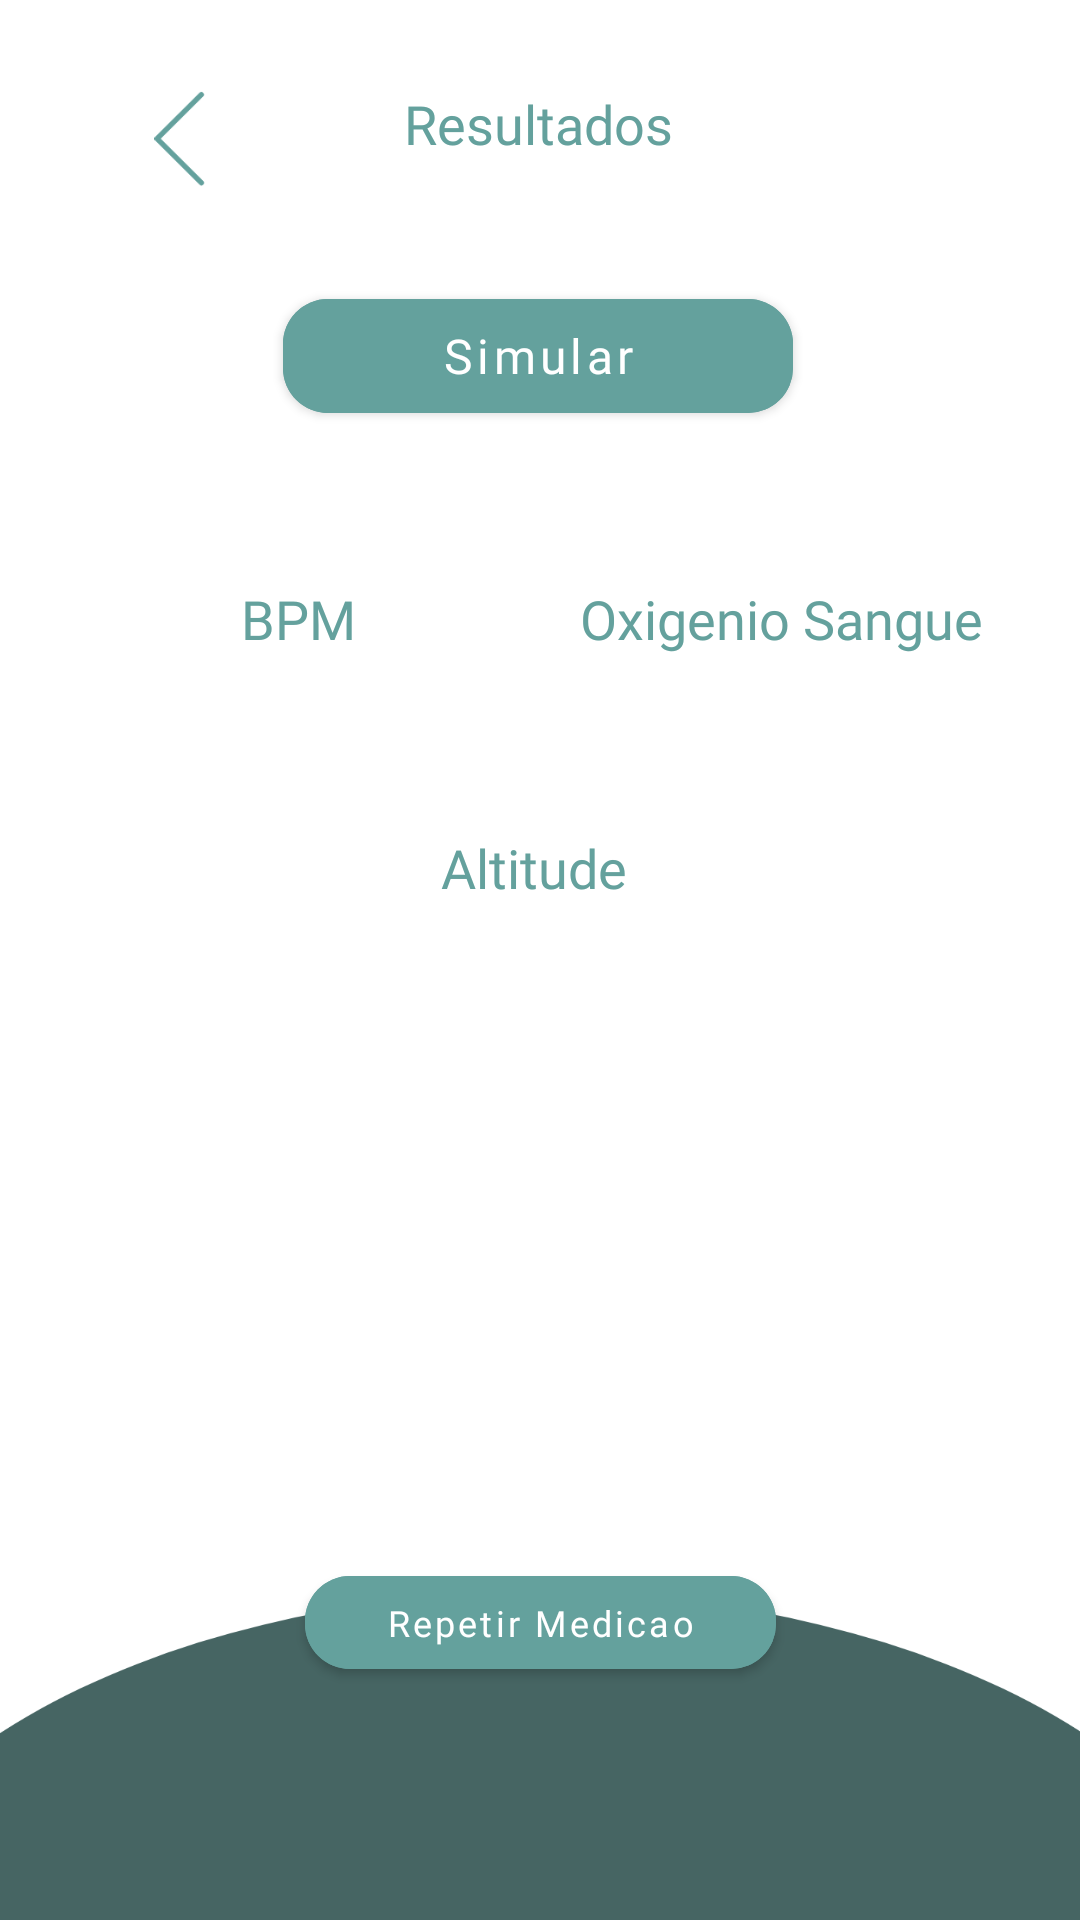

Icon click points for this 1080x1920 phone screenshot, format (x=x, y=y):
voltar: (x=179, y=139)
